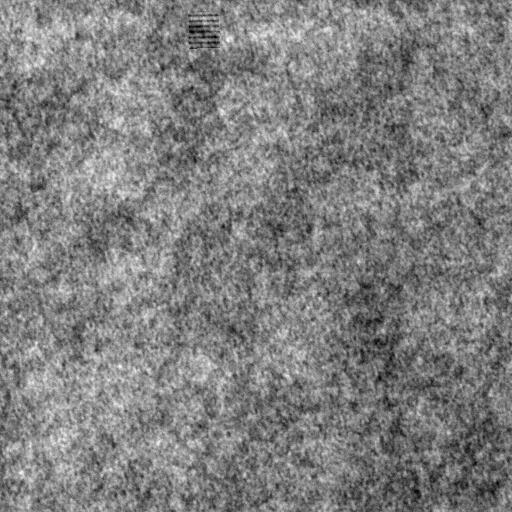DefectTypeB: (188, 11, 220, 52)
